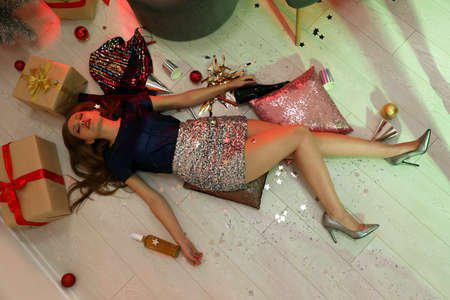Drunk: (70, 109, 100, 137)
